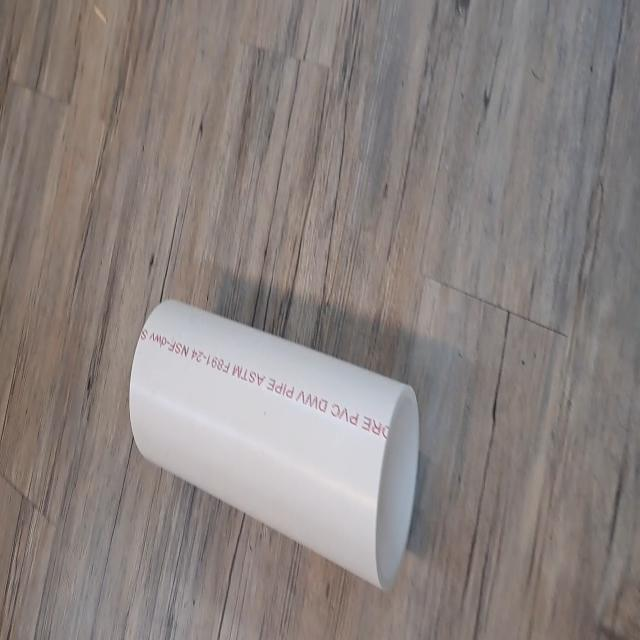CORAL: (125, 295, 425, 606)
